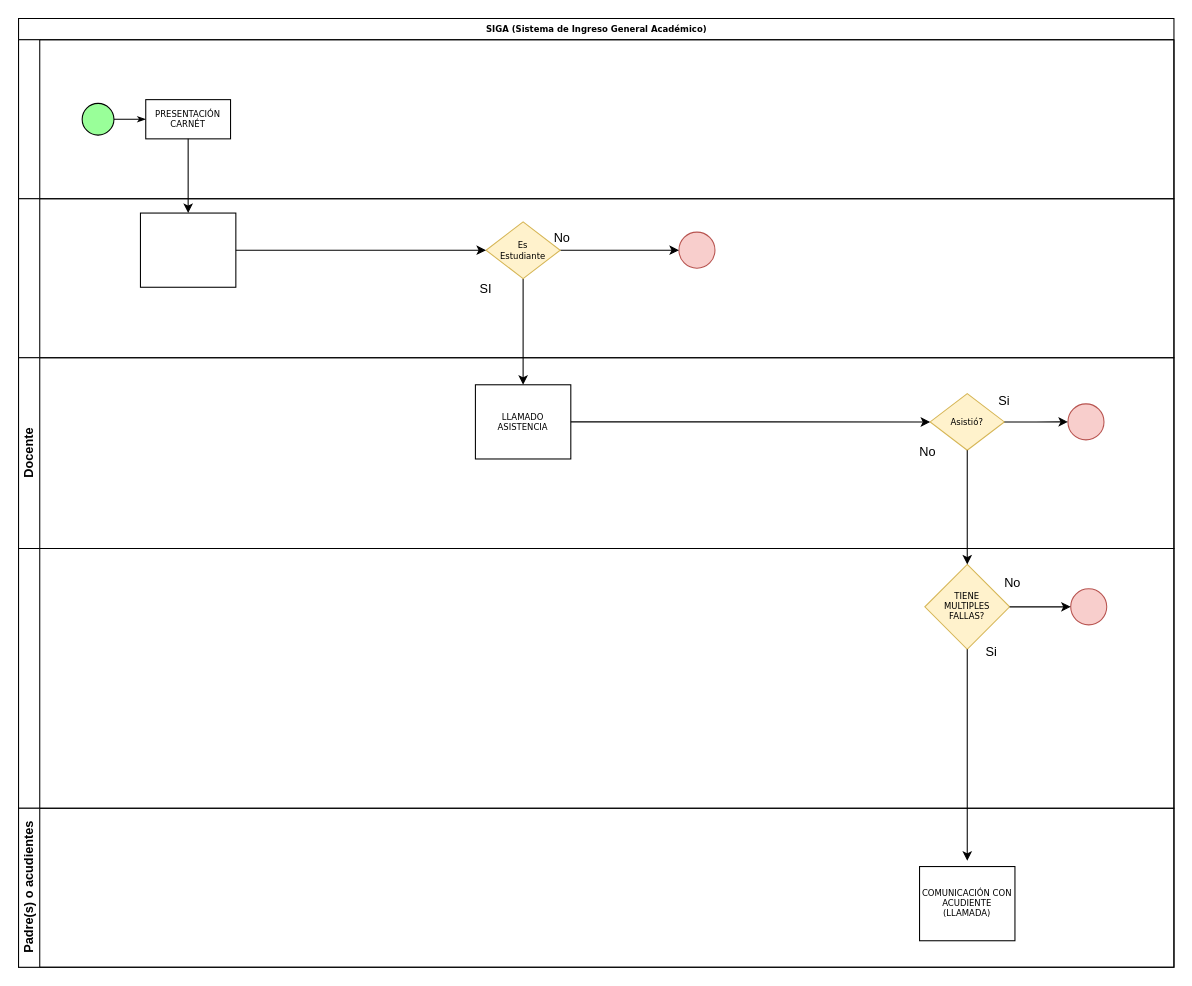
The diagram is 1192 pixels wide and 986 high, and some of its shapes have lost their labels. The box of each missing label's shape, as (x1, y1, x2, y2) in pixels:
AUTORIZA INGRESO (CELADURÍA): (139, 212, 236, 287)
Coordinación: (17, 547, 1174, 808)
Estudiante: (17, 39, 1174, 199)
Institución: (17, 198, 1174, 358)
